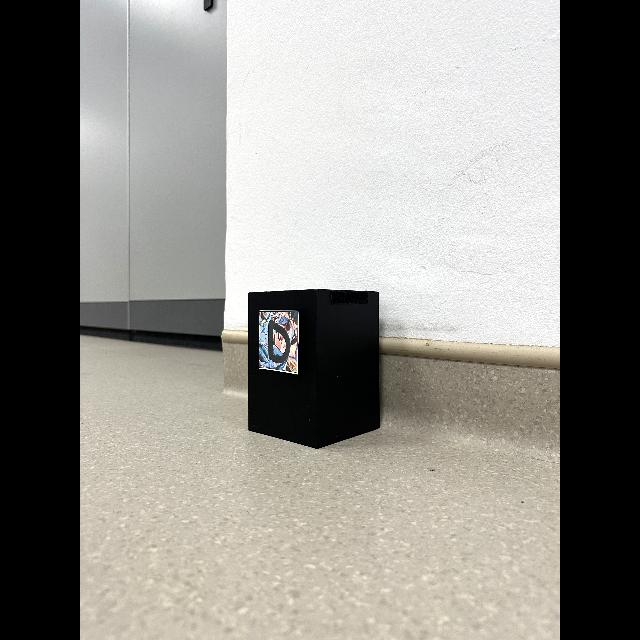D: (268, 320, 290, 364)
